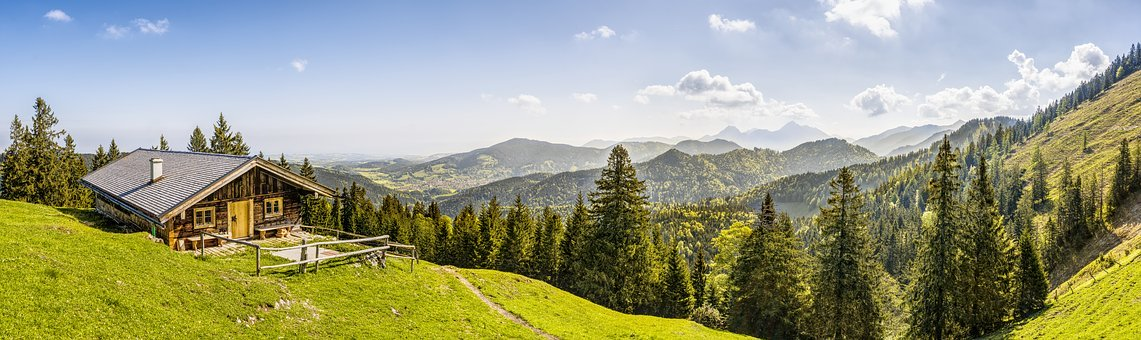field: (2, 201, 629, 340)
mountain: (390, 125, 1016, 199)
sky: (6, 4, 1141, 149)
tree: (549, 188, 1084, 331)
